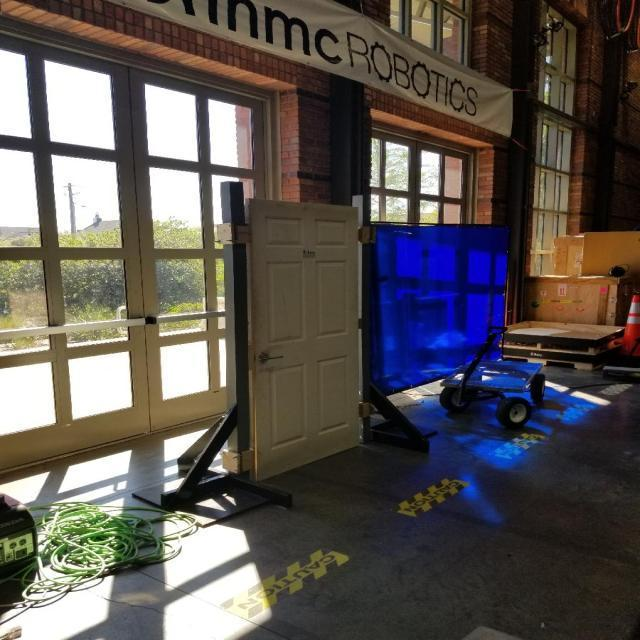door: (242, 197, 360, 485), (255, 348, 285, 366)
